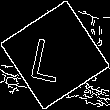L_N: (35, 27, 75, 83)
